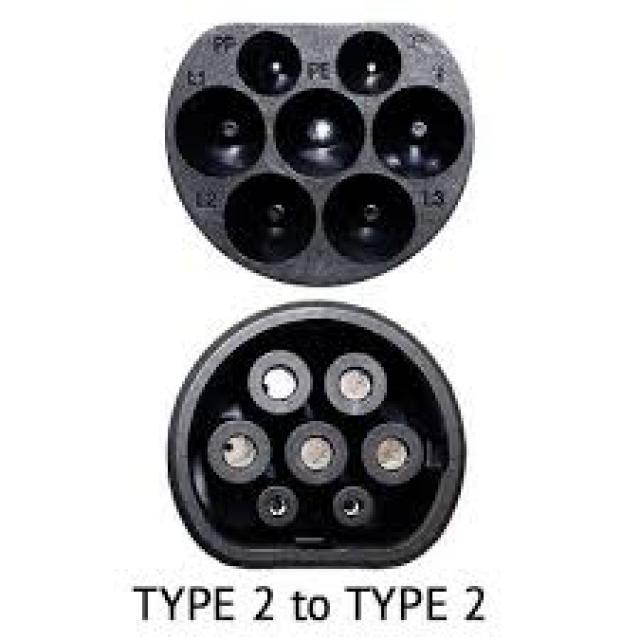Type 2: (125, 294, 523, 588), (134, 0, 510, 291)
